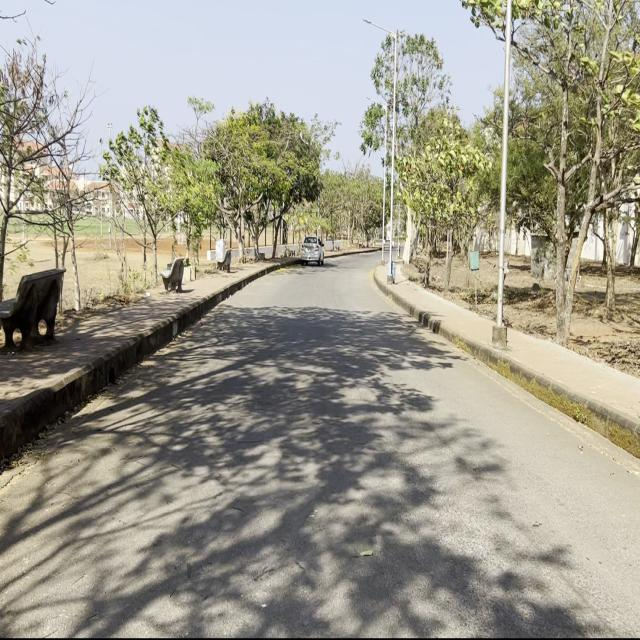Object: (300, 225, 326, 272)
Road: (3, 255, 637, 634)
